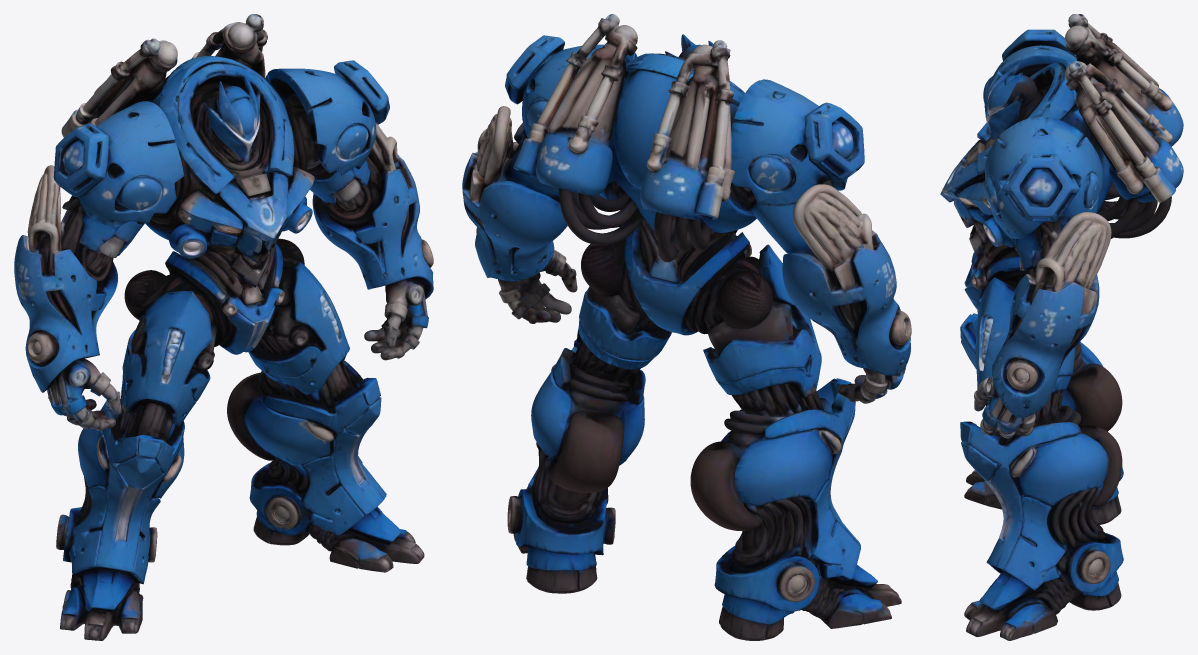
The model's file is breacher-unit.glb.
3 views of the same model, side by side, from view 1: azimuth 30°, elevation 25°; view 2: azimuth 150°, elevation 25°; view 3: azimuth 270°, elevation 25° (orthographic). The views are drawn at different scales.
Parts seen in each view (by area): view 1: texture_pbr_v128; view 2: texture_pbr_v128; view 3: texture_pbr_v128.
Boxes of the visible parts, x1,y1,x2,y2 form: texture_pbr_v128: [14, 14, 433, 640]; texture_pbr_v128: [462, 14, 911, 640]; texture_pbr_v128: [940, 14, 1183, 640].
Size of the model in its own units: 0.7624 by 0.9721 by 0.4127.
1 material, 1 textured.
